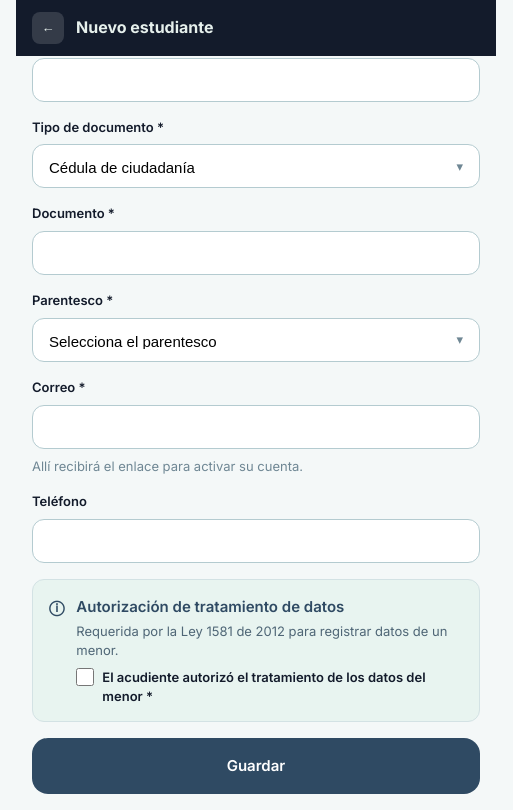
registrar estudiante (HU01-E1/E2) › valida antes de enviar y resume lo que falta
(page scrolled)
Click the button "Guardar" at [256, 766], box [32,738,480,794]
(page scrolled)
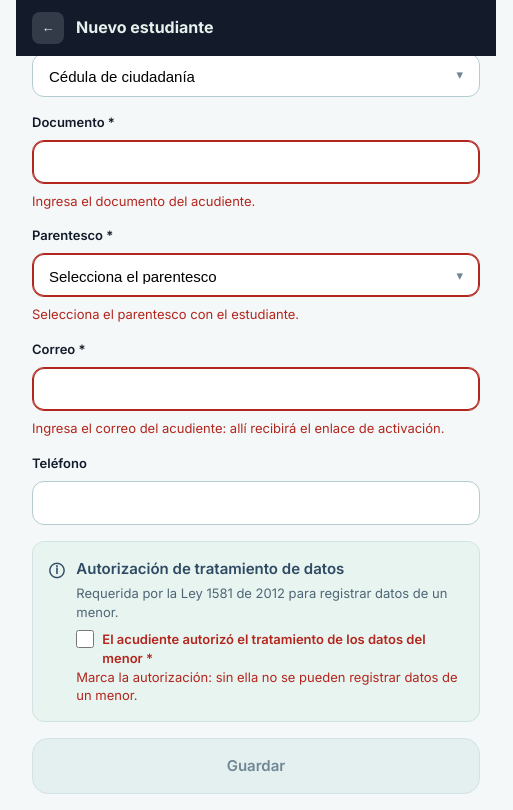
expect the text "Marca la autorización" is shown: met, box [76,669,458,703]
